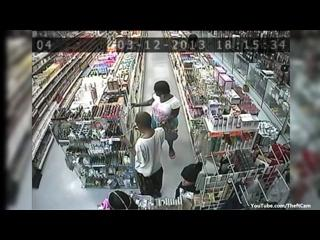Normal: (122, 112, 168, 198), (143, 80, 181, 160)
